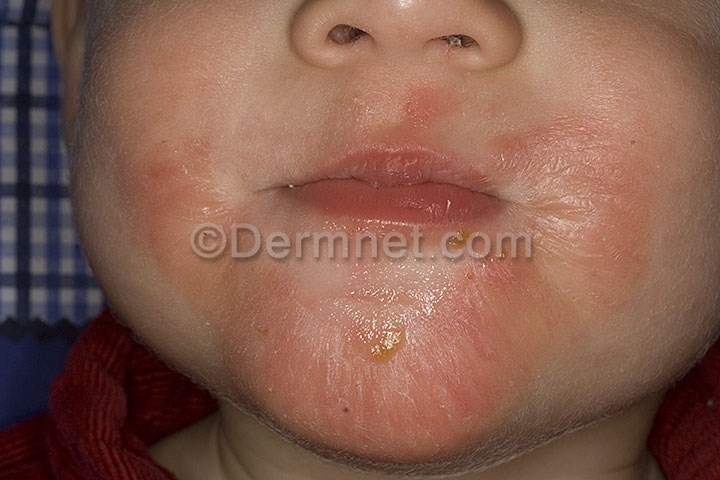Eczema: (98, 83, 271, 359), (498, 106, 680, 361), (276, 269, 490, 456), (327, 81, 473, 143)
